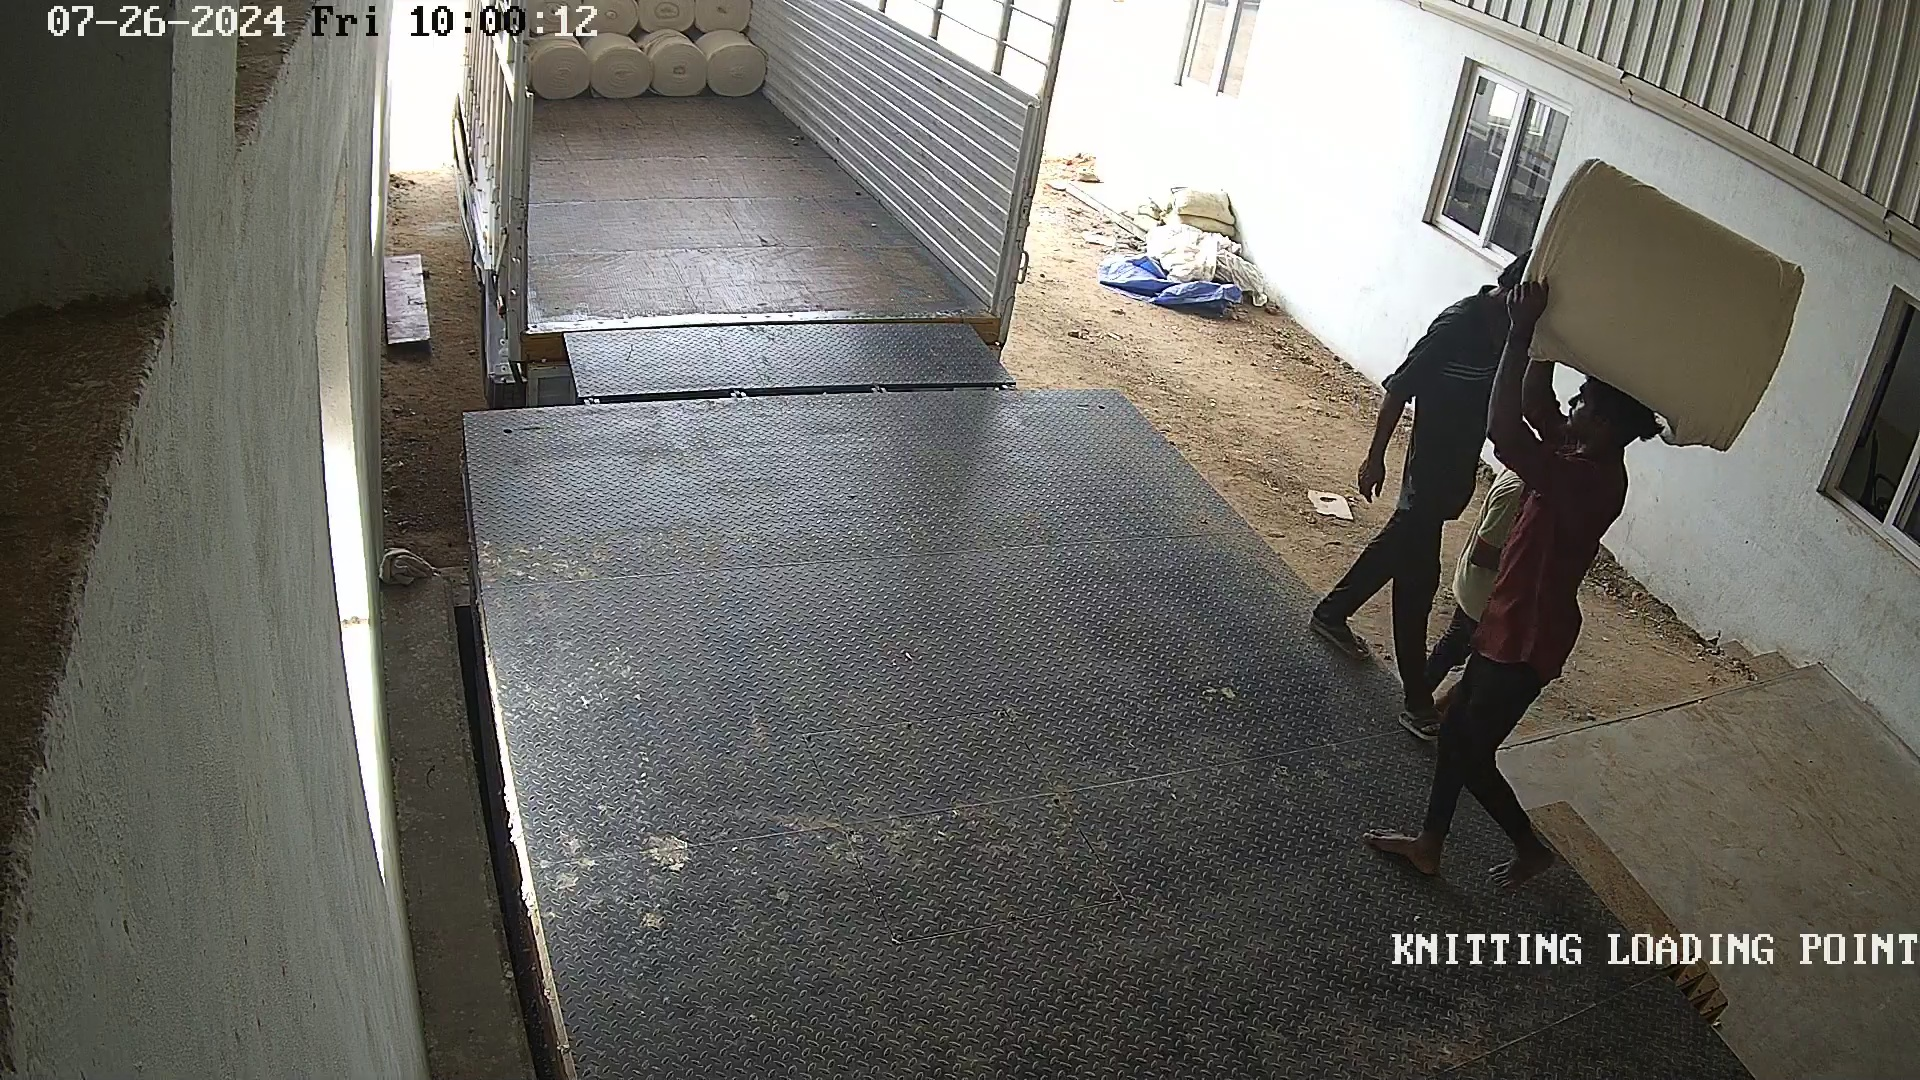bag: (1501, 135, 1815, 458)
